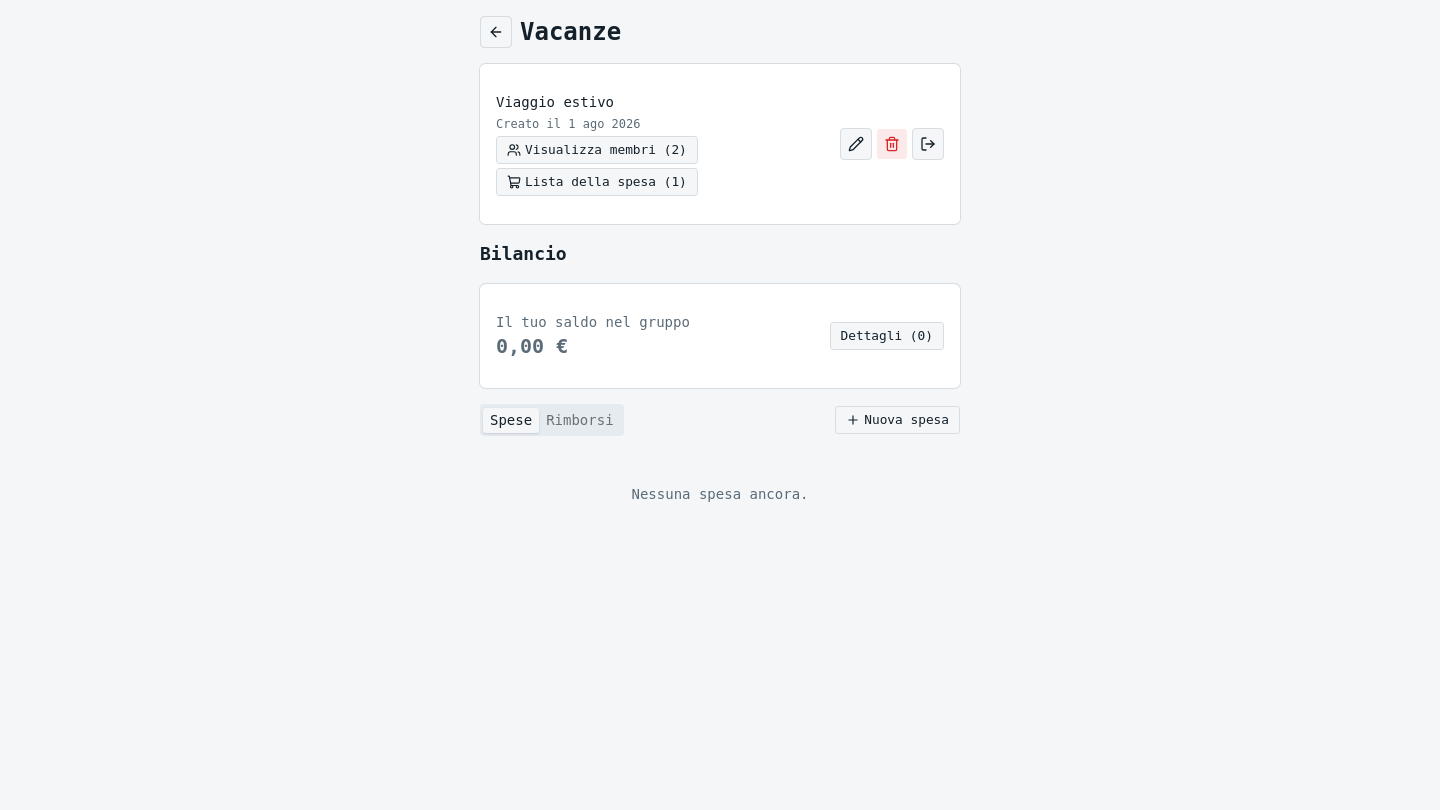
Test: GroupDetailPage › apre la lista della spesa del gruppo
Expected: the heading "Vacanze" is shown, [520,18,621,46]
Il pulsante sotto "Visualizza membri" mostra il numero di elementi in lista.
Click the button "Lista della spesa (1)" at (597, 182), box [496,168,698,196]
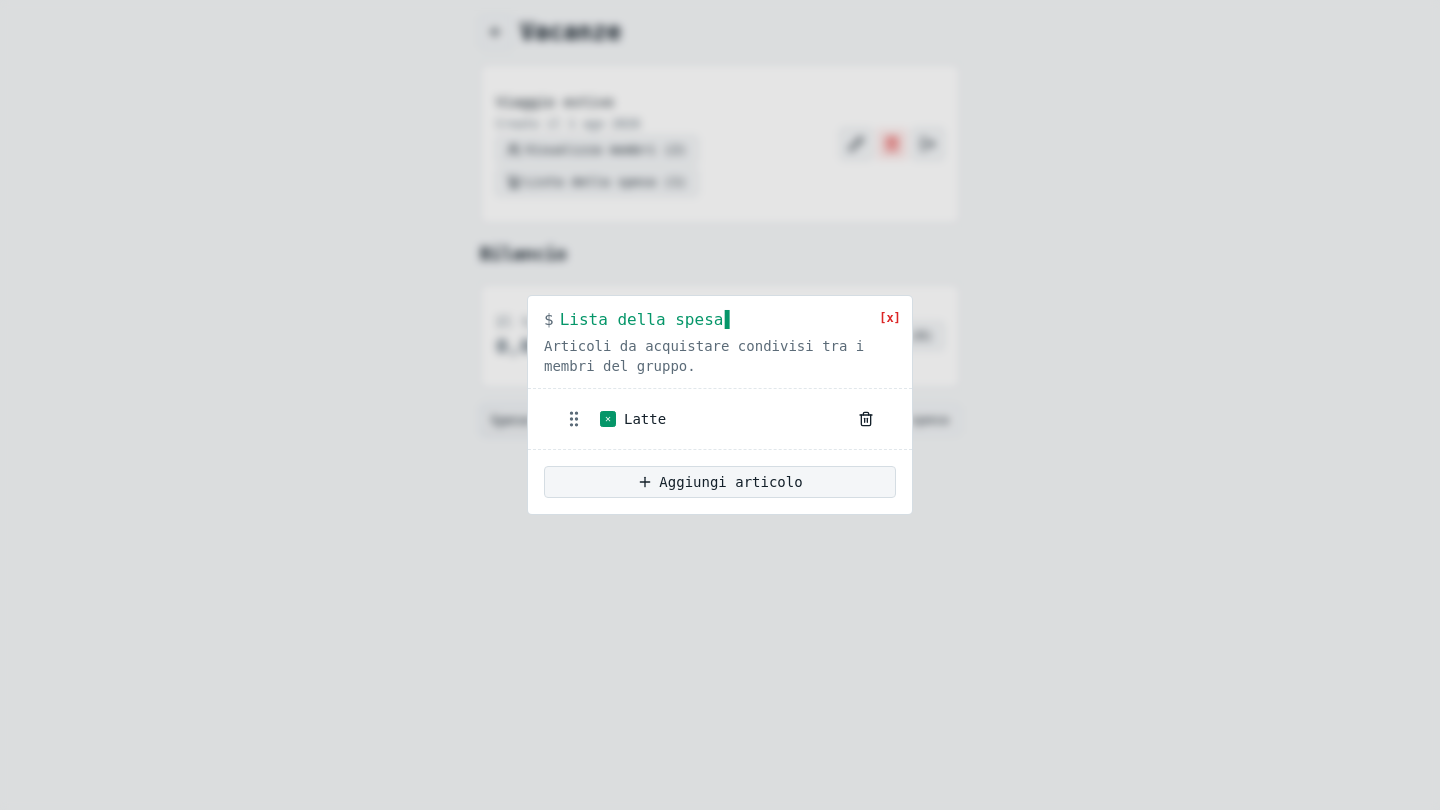
Expected: the text "Latte" is shown, [624,409,666,429]
